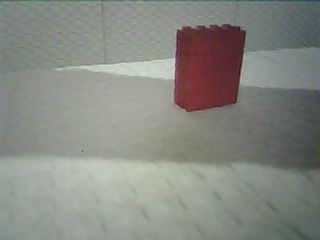lego: (171, 22, 246, 112)
